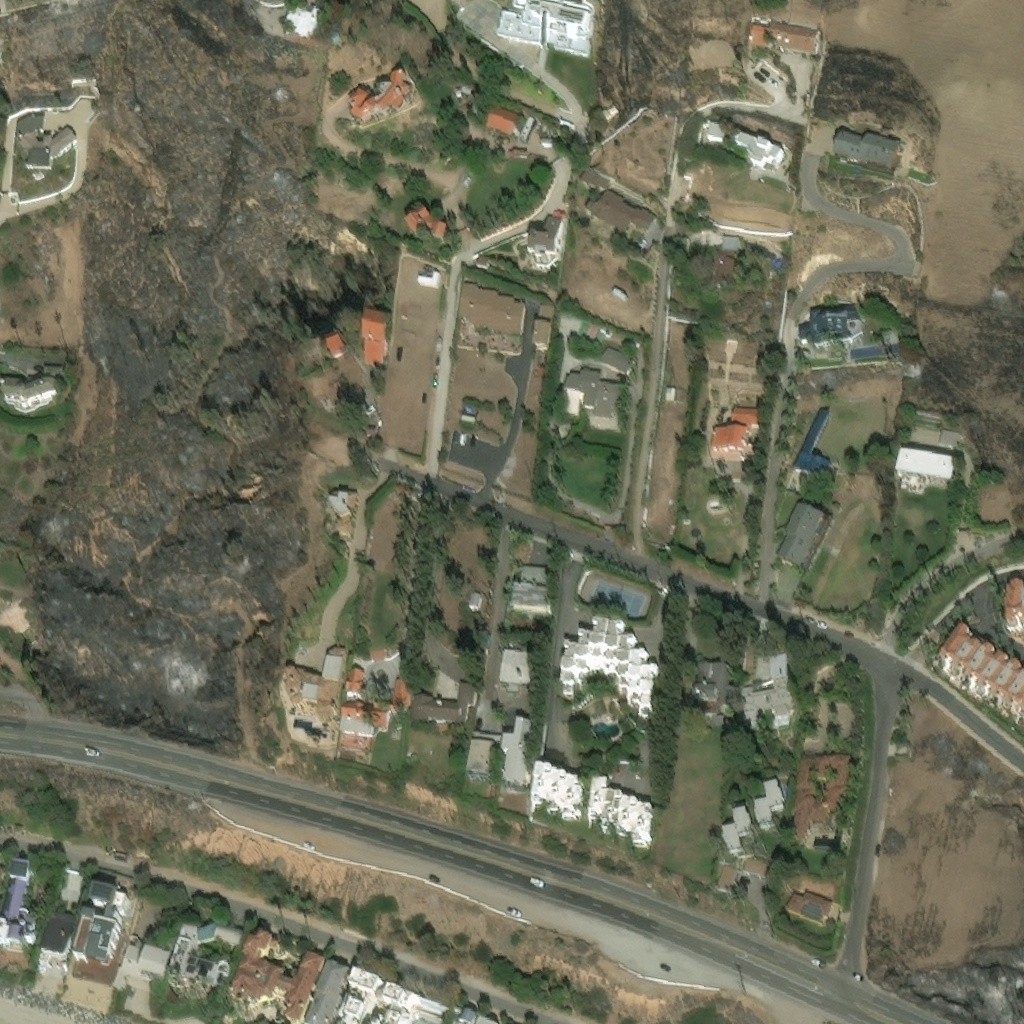0 no-damage: (560, 617, 658, 716), (934, 622, 1023, 727), (230, 932, 324, 1023), (691, 648, 792, 724), (338, 971, 448, 1023), (168, 921, 243, 993), (793, 750, 848, 847), (339, 677, 410, 751), (588, 776, 655, 850), (498, 0, 589, 49), (286, 645, 345, 720), (73, 882, 125, 964), (41, 866, 84, 956), (13, 113, 77, 172), (458, 283, 525, 334), (0, 360, 63, 413), (344, 73, 412, 122), (776, 501, 825, 568), (832, 121, 899, 170), (0, 857, 36, 946), (303, 959, 352, 1023), (798, 297, 862, 346), (532, 762, 584, 822), (587, 189, 656, 233), (790, 406, 831, 479), (113, 936, 171, 987), (563, 367, 623, 416), (707, 399, 760, 454), (410, 682, 476, 726), (897, 448, 958, 490), (502, 716, 536, 790), (748, 19, 818, 54), (527, 207, 566, 256), (722, 806, 757, 857), (512, 563, 547, 613), (752, 778, 784, 831), (786, 889, 834, 924), (735, 131, 783, 166), (467, 733, 499, 781), (712, 232, 737, 290), (498, 649, 532, 691), (405, 207, 448, 240), (363, 311, 386, 365), (482, 103, 520, 135), (286, 8, 322, 37), (598, 341, 632, 370), (532, 302, 552, 349), (1007, 580, 1023, 637), (328, 488, 357, 517), (37, 953, 67, 976), (344, 668, 362, 696), (326, 336, 345, 359), (938, 425, 959, 444), (452, 1008, 478, 1023), (417, 270, 439, 285), (704, 119, 722, 136), (598, 103, 616, 117), (475, 256, 490, 270), (466, 591, 478, 607), (634, 237, 646, 251), (539, 135, 553, 142), (665, 384, 672, 396)
